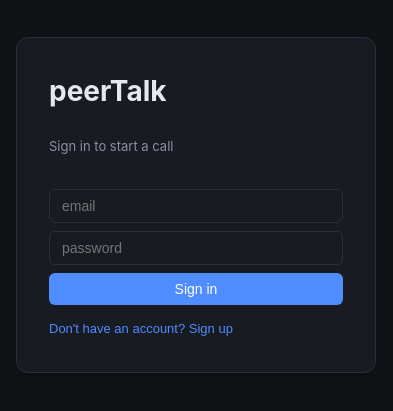
Test: AuthGate › toggles to signup view
Expected: the text "Sign in to start a call" is shown, [49,138,174,154]
Click the button "Don't have an account? Sign up" at [196, 329], box [49,317,343,340]
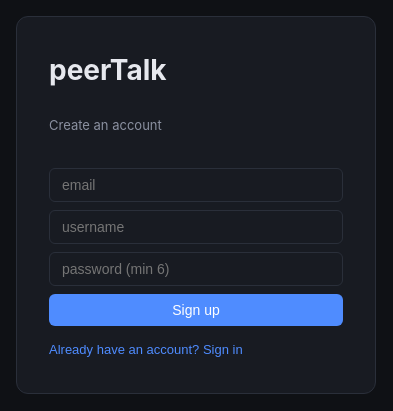
Expected: the text "Create an account" is shown, [49,117,162,133]
Click the button "Already have an account? Sign in" at [196, 350], box [49,338,343,361]
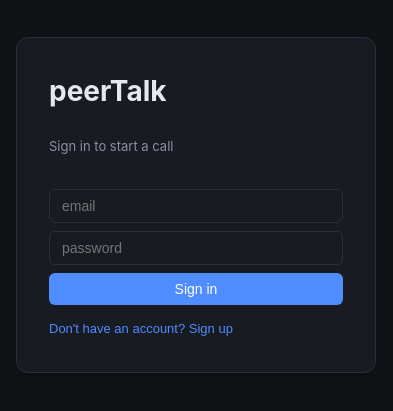
Expected: the text "Sign in to start a call" is shown, [49,138,174,154]
